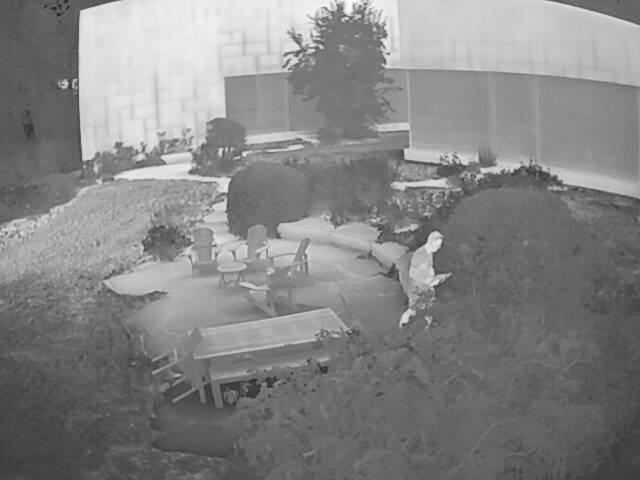person: (399, 232, 446, 340)
